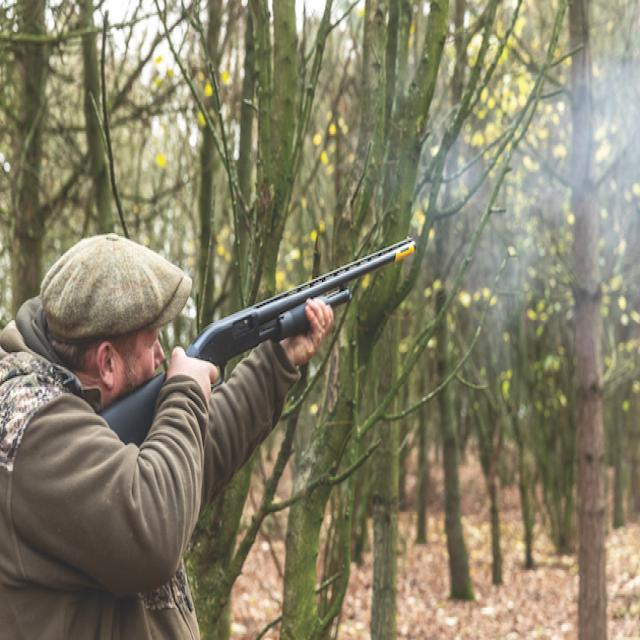ShotGun: (101, 239, 414, 445)
